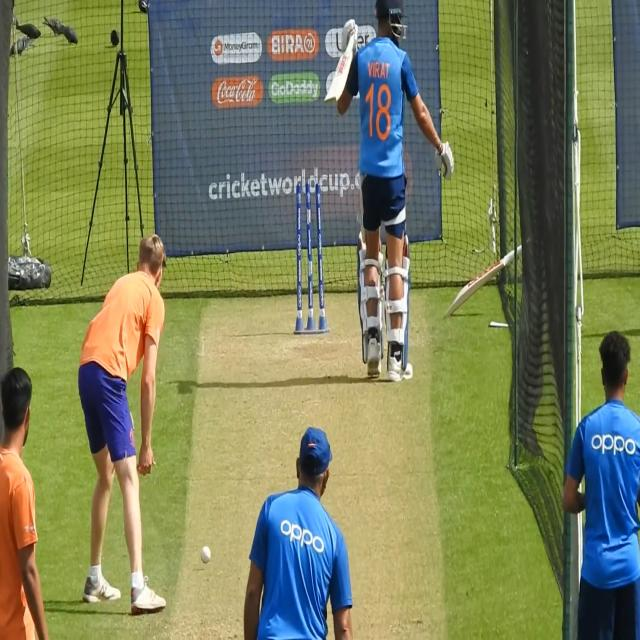ball: (198, 542, 214, 567)
stump: (294, 180, 328, 336)
